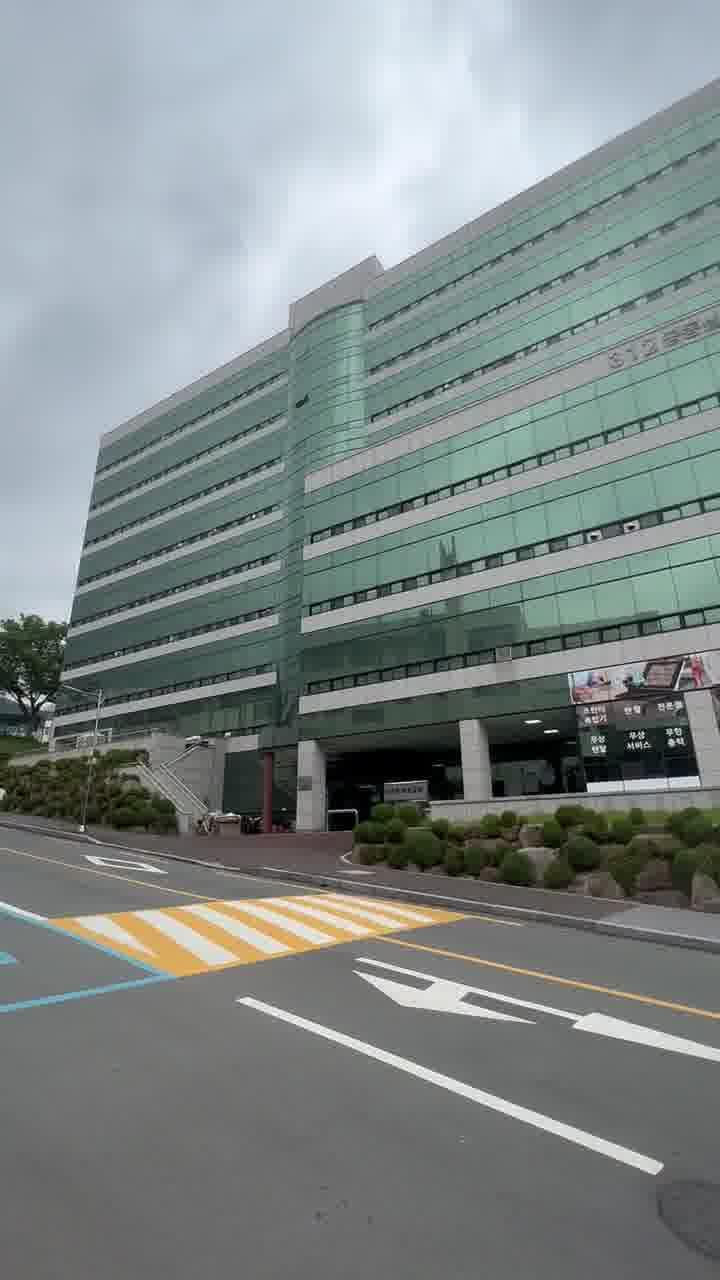building: (66, 228, 716, 672)
